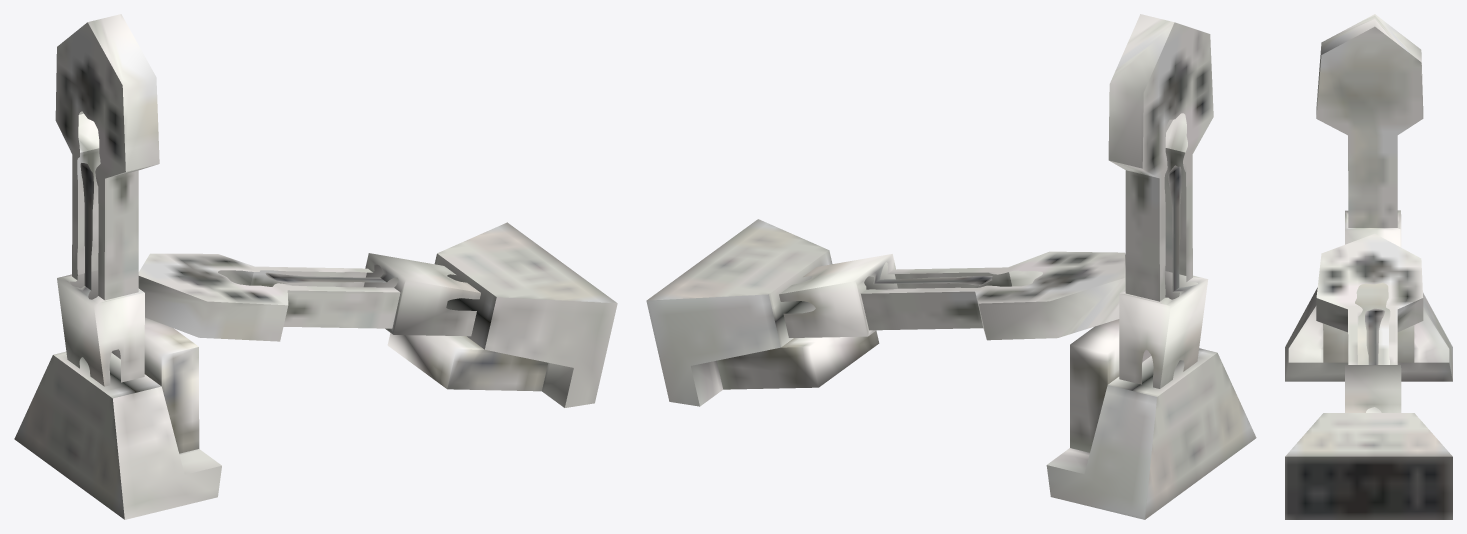
Rendered from poi_r2_leg_l2.fbx.
3 views of the same model, side by side, from view 1: azimuth 30°, elevation 25°; view 2: azimuth 150°, elevation 25°; view 3: azimuth 270°, elevation 25° (orthographic). The views are drawn at different scales.
Visible parts, largest first — view 1: mesh_node; view 2: mesh_node; view 3: mesh_node.
Boxes of the visible parts, x1,y1,x2,y2 form: mesh_node: [14, 14, 617, 519]; mesh_node: [646, 14, 1256, 519]; mesh_node: [1285, 14, 1452, 519].
Bounding box in the file's own units: 0.916 × 0.7975 × 0.3555.
Materials: 1 (1 with a texture image).
